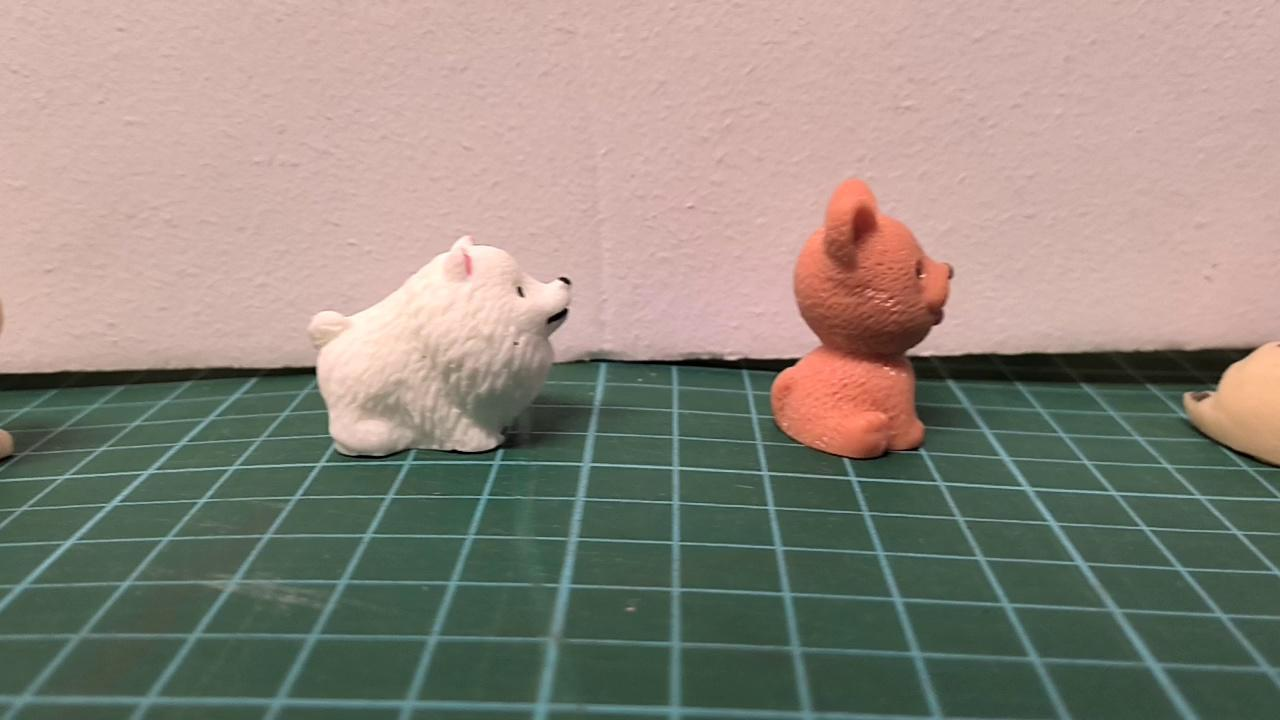pet: (309, 233, 571, 457), (769, 177, 955, 461), (1183, 337, 1280, 463)
